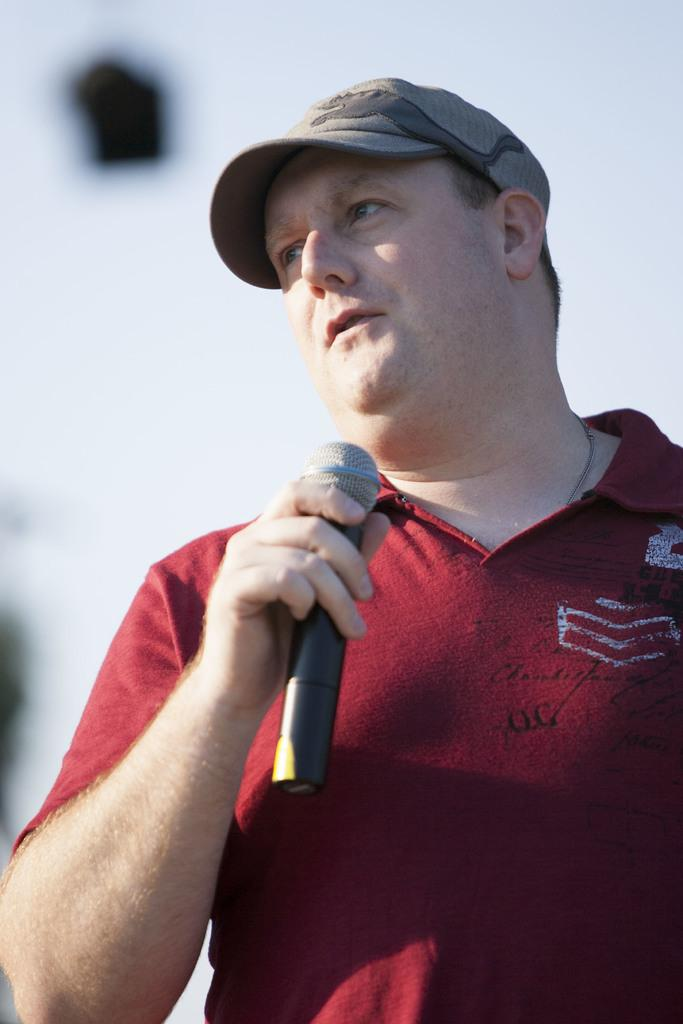Hat: (211, 74, 554, 286)
